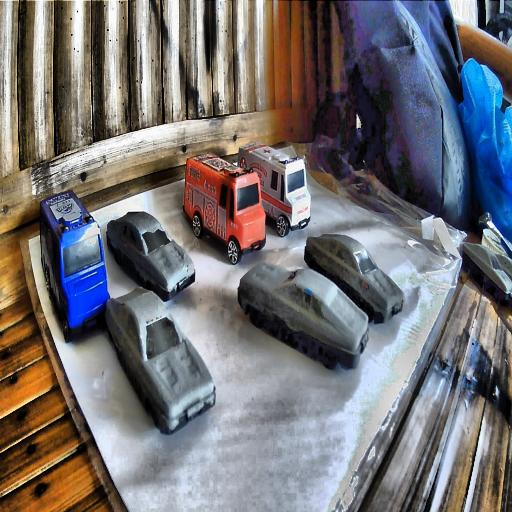ambulance: (238, 140, 310, 238)
fire_truck: (182, 152, 266, 263)
normal_car: (104, 286, 217, 434), (240, 264, 364, 373), (306, 234, 404, 326), (105, 208, 196, 301), (461, 241, 512, 301)
police car: (39, 189, 110, 343)
